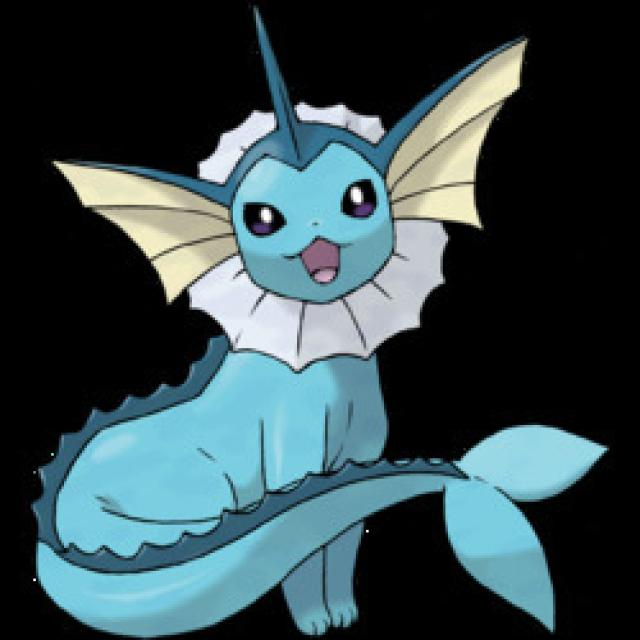Vaporeon: (101, 106, 474, 564)
